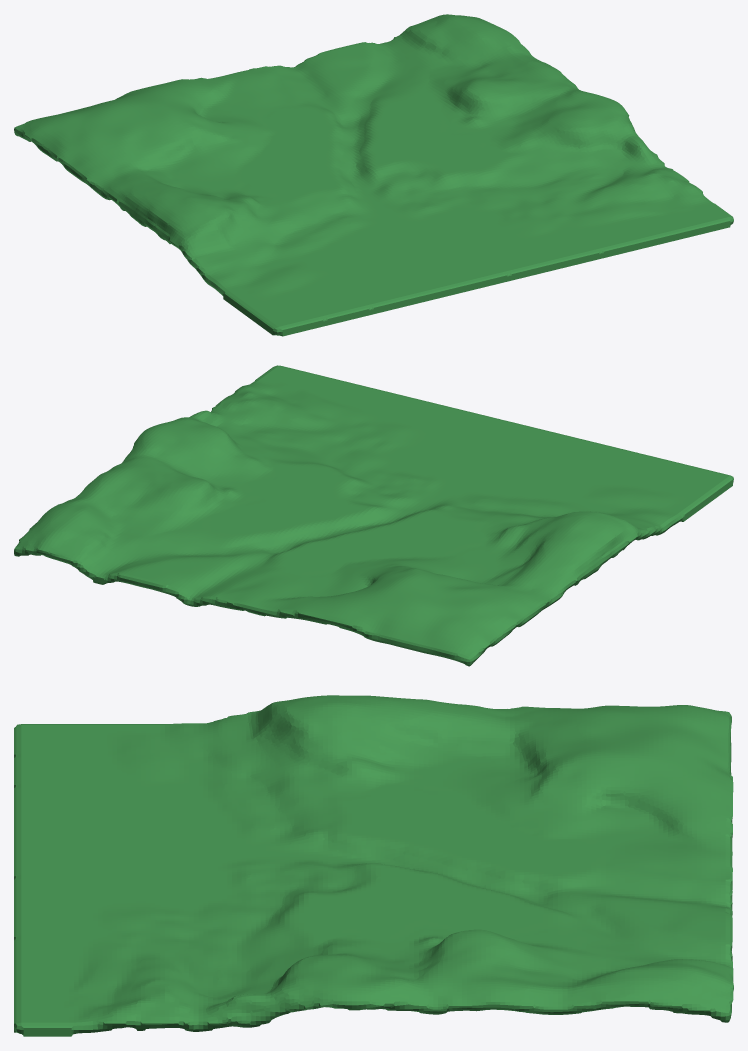
The model's file is map-essais3.fbx.
3 views of the same model, one above another, from view 1: azimuth 30°, elevation 25°; view 2: azimuth 150°, elevation 25°; view 3: azimuth 270°, elevation 25° (orthographic). The views are drawn at different scales.
Parts seen in each view (by area): view 1: Plane; view 2: Plane; view 3: Plane.
Boxes of the visible parts, x1,y1,x2,y2 form: Plane: (14, 14, 733, 336); Plane: (14, 365, 733, 666); Plane: (14, 695, 733, 1036).
Bounding box in the file's own units: 30587 × 2463 × 30048.
